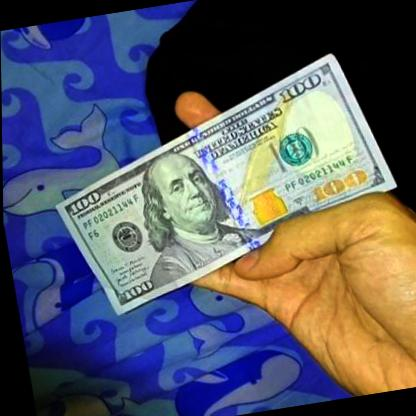one_hundred-front: (38, 42, 409, 319)
